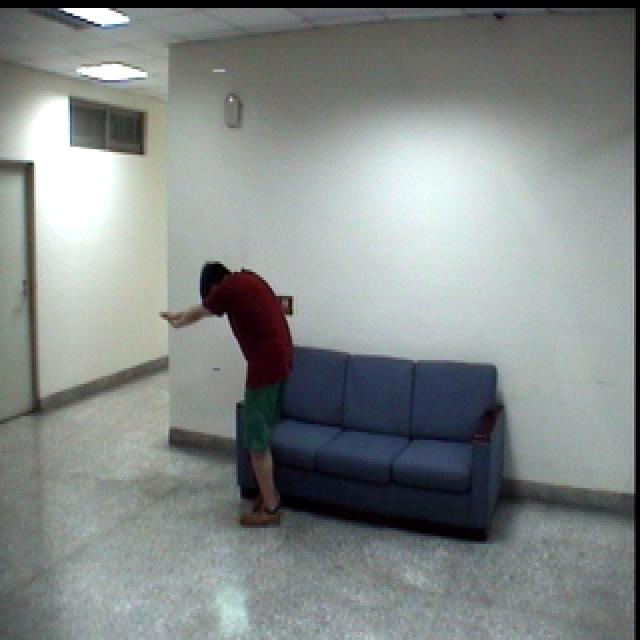bend: (156, 261, 304, 539)
